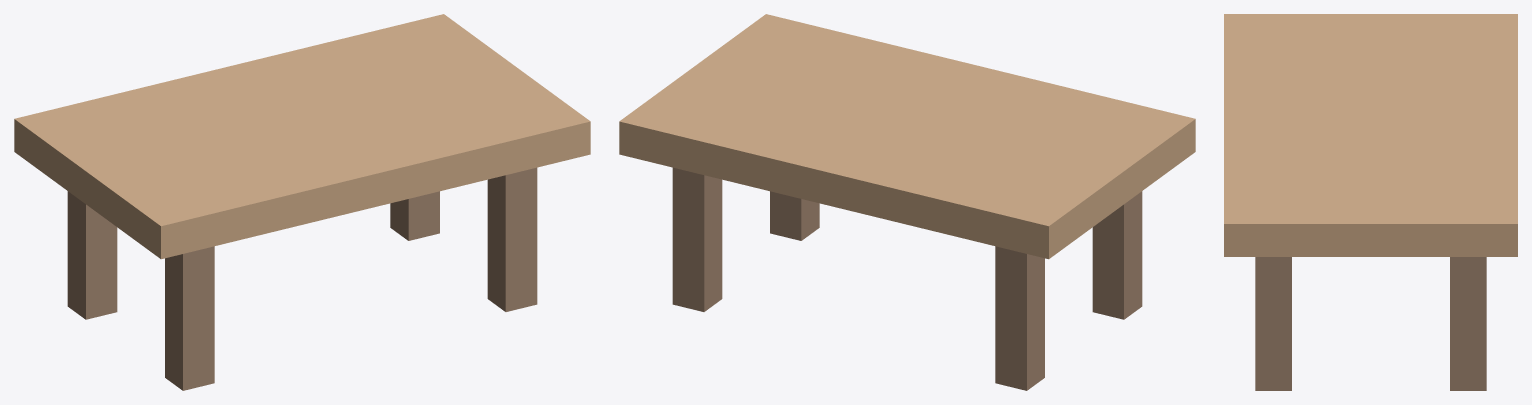
The model's file is dining-table.glb.
3 renders of one model, left to right at view 1: azimuth 30°, elevation 25°; view 2: azimuth 150°, elevation 25°; view 3: azimuth 270°, elevation 25°, orthographic.
Visible parts, largest first — view 1: dining-top, leg-4, leg-3, leg-1, leg-2; view 2: dining-top, leg-2, leg-1, leg-3, leg-4; view 3: dining-top, leg-2, leg-4.
Boxes of the visible parts, x1=… form: dining-top: x1=14, y1=14, x2=590, y2=259; leg-4: x1=487, y1=167, x2=537, y2=311; leg-3: x1=165, y1=246, x2=214, y2=390; leg-1: x1=67, y1=191, x2=117, y2=319; leg-2: x1=390, y1=191, x2=439, y2=240; dining-top: x1=619, y1=14, x2=1195, y2=259; leg-2: x1=672, y1=167, x2=722, y2=311; leg-1: x1=995, y1=246, x2=1044, y2=390; leg-3: x1=1092, y1=191, x2=1142, y2=319; leg-4: x1=770, y1=191, x2=819, y2=240; dining-top: x1=1224, y1=14, x2=1517, y2=256; leg-2: x1=1450, y1=257, x2=1486, y2=390; leg-4: x1=1255, y1=257, x2=1291, y2=390.
Bounding box in the file's own units: 2.45 × 1.01 × 1.45.
